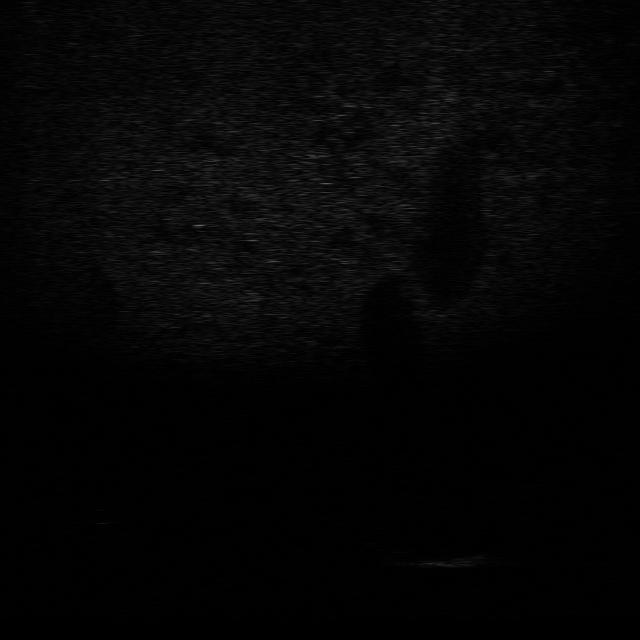ball: (84, 506, 118, 527)
metal bucket: (408, 549, 492, 573)
tyre: (356, 519, 426, 555)
